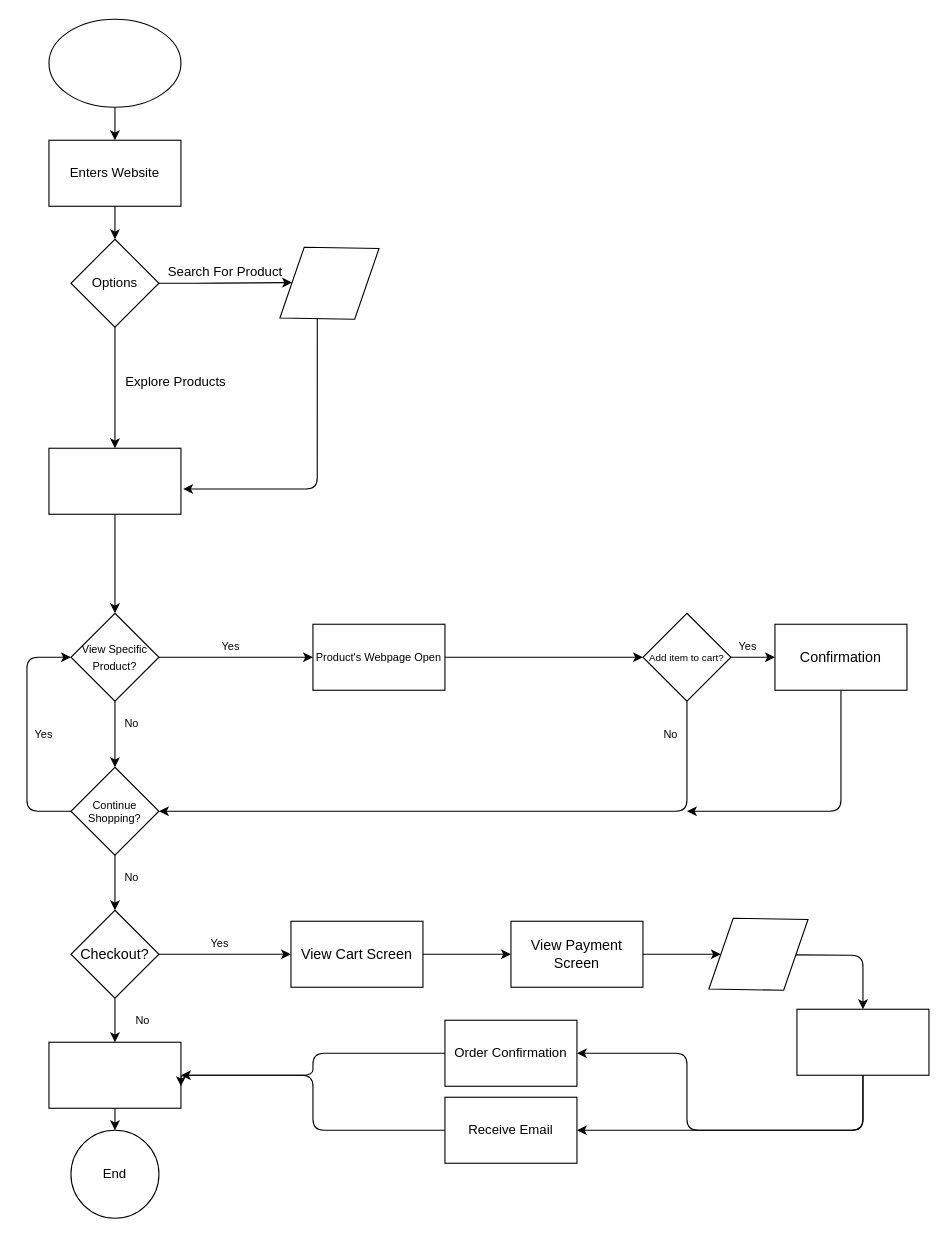
Some shapes in this 948 by 1238 pixel diagram are drawn without their labels. Here are the shapes that lost their labels. From the top down, the box of each, then its label:
(48, 18, 181, 107): Start
(253, 211, 404, 354): Input
(48, 447, 181, 514): Look Over Product
(682, 882, 833, 1025): Input Payment Info
(796, 1008, 929, 1075): Paid
(48, 1041, 181, 1108): Leave Website
